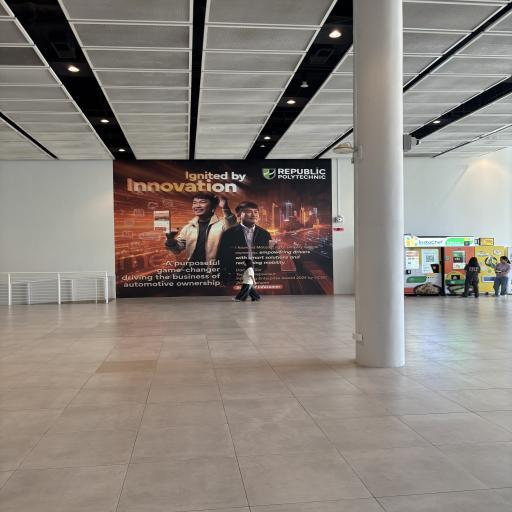person_left: (238, 259, 262, 302)
